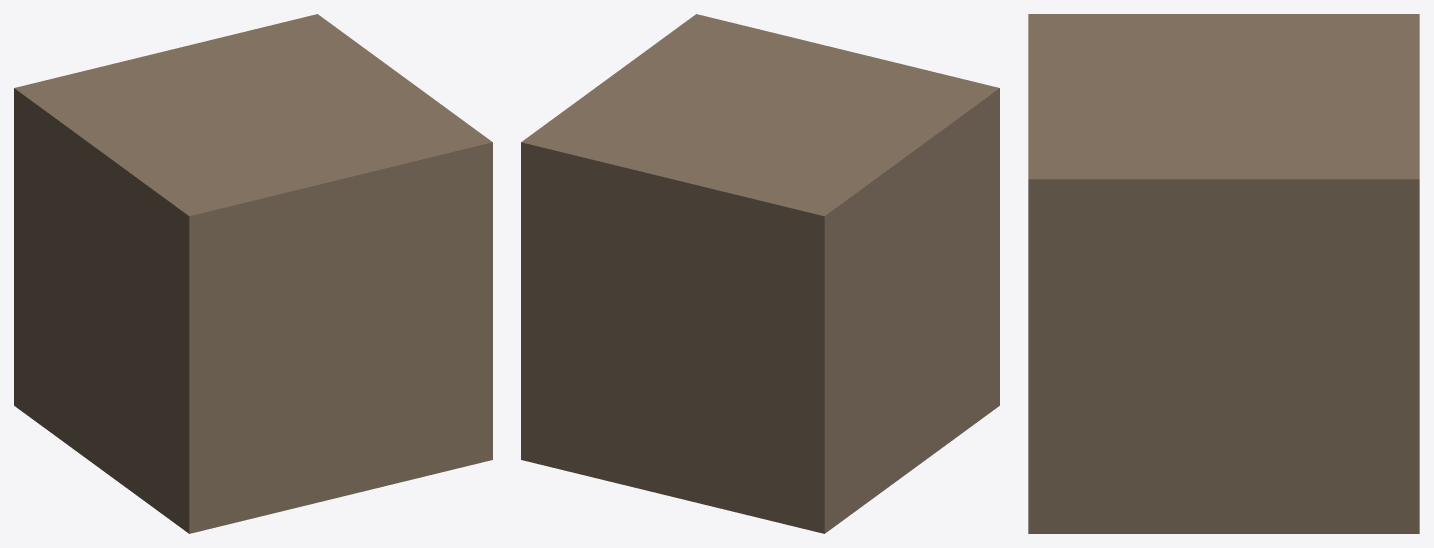
The model's file is boxShatter_test.fbx.
3 views of the same model, side by side, from view 1: azimuth 30°, elevation 25°; view 2: azimuth 150°, elevation 25°; view 3: azimuth 270°, elevation 25° (orthographic). The views are drawn at different scales.
Parts seen in each view (by area): view 1: polySurface2, polySurface4, polySurface1, polySurface6, polySurface12, polySurface7, polySurface5, polySurface9, polySurface10, polySurface3, polySurface8; view 2: polySurface2, polySurface4, polySurface9, polySurface12, polySurface6, polySurface10, polySurface1, polySurface7, polySurface5, polySurface3; view 3: polySurface6, polySurface12, polySurface2, polySurface3, polySurface4, polySurface8, polySurface9.
Part boxes in pixels (x1,y1,x2,y2): polySurface2: (14, 53, 286, 289); polySurface4: (14, 39, 390, 342); polySurface1: (14, 374, 480, 533); polySurface6: (236, 14, 492, 272); polySurface12: (272, 273, 492, 413); polySurface7: (14, 269, 270, 462); polySurface5: (14, 209, 270, 372); polySurface9: (215, 34, 465, 342); polySurface10: (14, 335, 394, 463); polySurface3: (395, 390, 492, 462); polySurface8: (466, 263, 492, 309); polySurface2: (682, 64, 999, 322); polySurface4: (624, 39, 999, 372); polySurface9: (521, 39, 798, 374); polySurface12: (521, 288, 759, 453); polySurface6: (521, 14, 797, 275); polySurface10: (621, 335, 999, 502); polySurface1: (584, 336, 999, 533); polySurface7: (766, 245, 999, 462); polySurface5: (763, 168, 999, 397); polySurface3: (521, 430, 620, 474); polySurface6: (1028, 123, 1419, 336); polySurface12: (1028, 336, 1419, 500); polySurface2: (1028, 14, 1419, 91); polySurface3: (1028, 456, 1419, 533); polySurface4: (1028, 67, 1419, 123); polySurface8: (1028, 314, 1340, 366); polySurface9: (1028, 123, 1419, 341).
Bounding box in the file's own units: 5.66 × 5.66 × 5.66.
